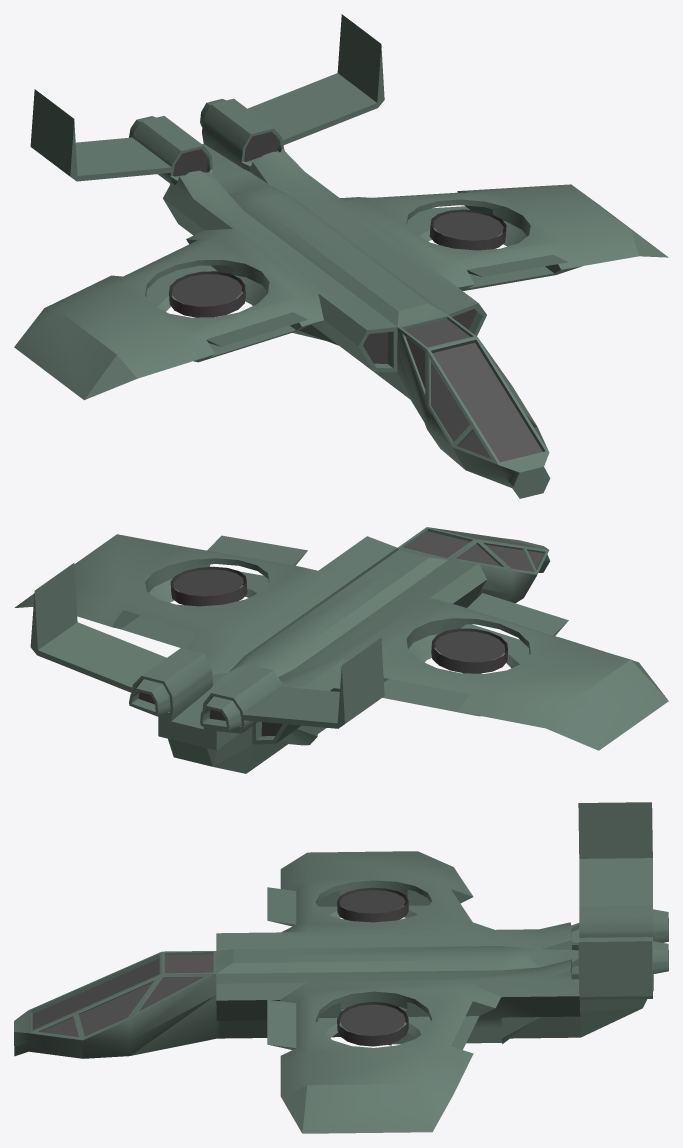
3 views of the same model, one above another, from view 1: azimuth 30°, elevation 25°; view 2: azimuth 150°, elevation 25°; view 3: azimuth 270°, elevation 25° (orthographic). The views are drawn at different scales.
Parts seen in each view (by area): view 1: Plane; view 2: Plane; view 3: Plane.
Boxes of the visible parts, x1,y1,x2,y2 form: Plane: (14,14,668,498); Plane: (14,527,668,773); Plane: (14,802,668,1133).
Bounding box in the file's own units: 46.5 × 14.68 × 48.59.
